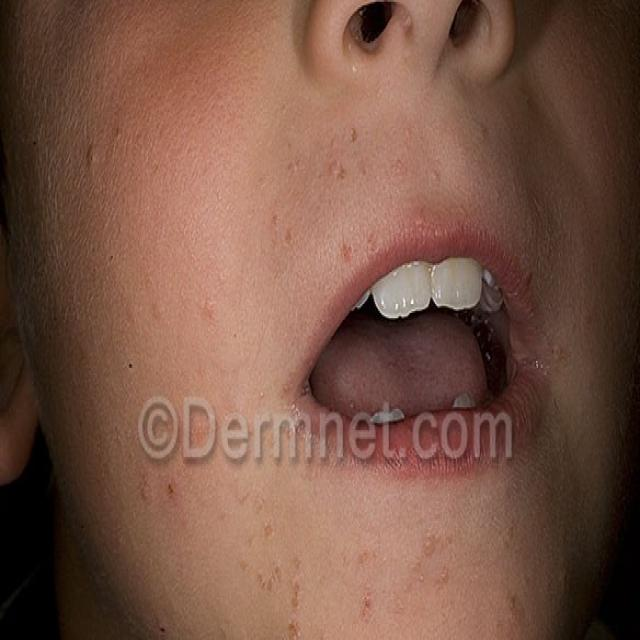Warts: (238, 538, 528, 640), (266, 122, 396, 282), (74, 107, 116, 225), (138, 291, 234, 340), (138, 467, 186, 525)
